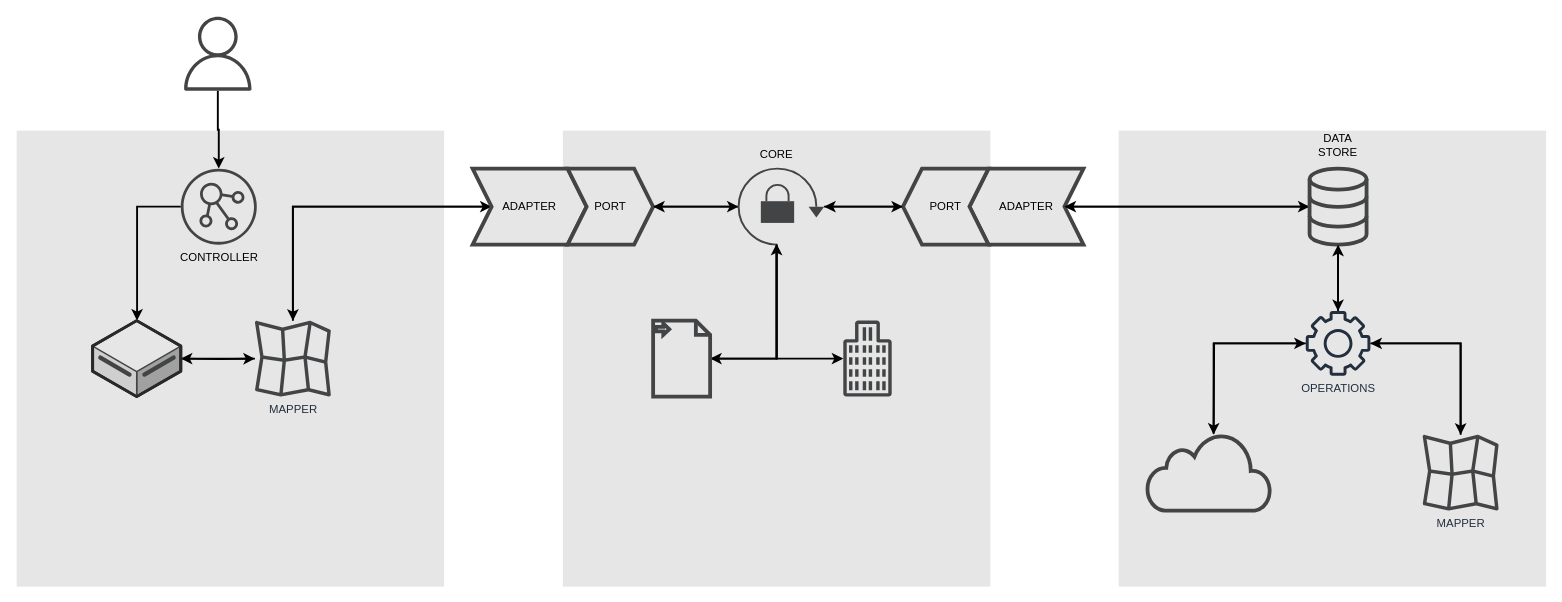
Some shapes in this 1562 by 602 pixel diagram are drawn without their labels. Here are the shapes that lost their labels. From the top down, the centre of each, then its label:
(136,358): DTO
(681,358): MODEL
(867,358): BUSINESS RULES
(1208,471): REPOSITORY
